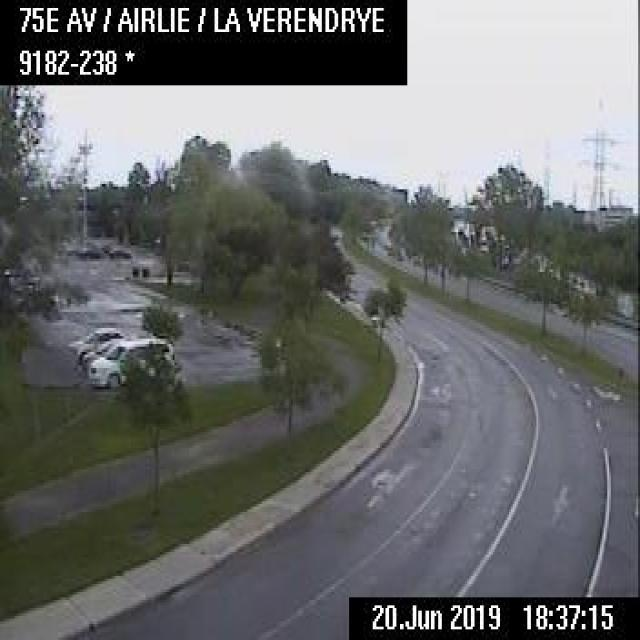vehicle: (87, 335, 174, 387), (66, 325, 122, 350), (106, 242, 132, 260), (76, 242, 102, 258)
